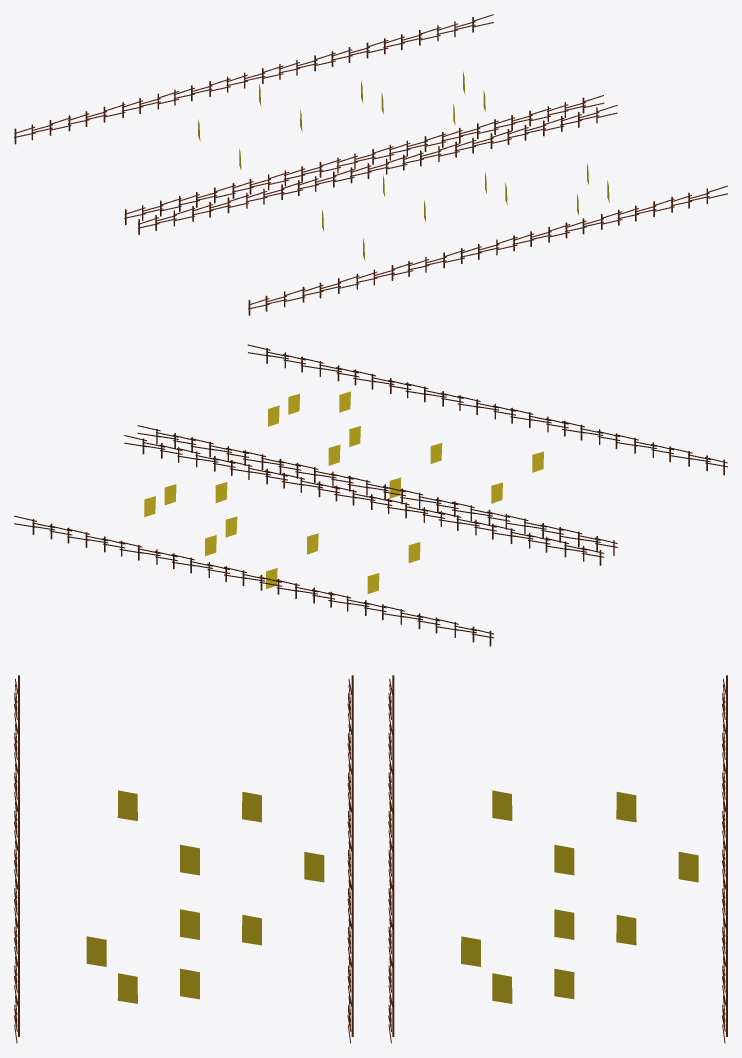
Rendered from farm02.glb.
The picture shows the model from 3 angles, top to bottom: view 1: azimuth 30°, elevation 25°; view 2: azimuth 150°, elevation 25°; view 3: azimuth 270°, elevation 25°; orthographic projection. The views are drawn at different scales.
Visible parts, largest first — view 1: Farm02; view 2: Farm02; view 3: Farm02.
Boxes of the visible parts, box(x1,y1,x2,y2) form: Farm02: box(14, 14, 727, 315); Farm02: box(14, 344, 727, 646); Farm02: box(14, 675, 727, 1043).
Bounding box in the file's own units: 17.92 × 0.8765 × 15.26.
